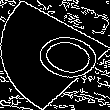O_SE: (8, 22, 102, 88)
